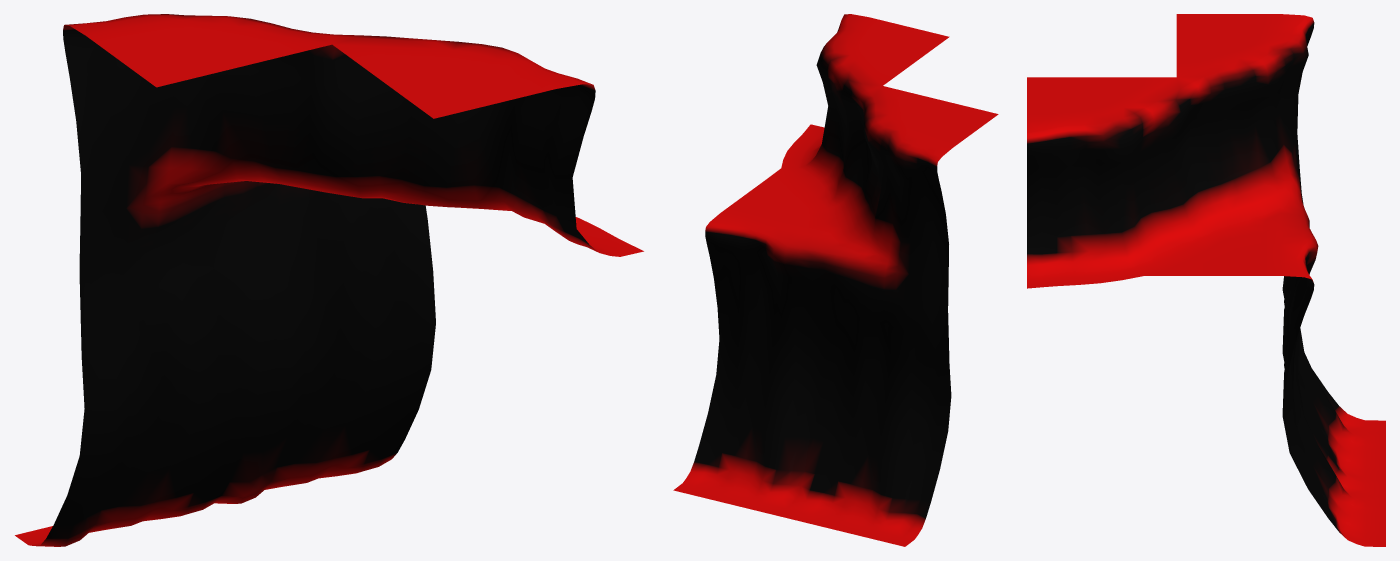
The model's file is Cliff 2x1x3 Foreground.fbx.
3 renders of one model, left to right at view 1: azimuth 30°, elevation 25°; view 2: azimuth 150°, elevation 25°; view 3: azimuth 270°, elevation 25°, orthographic. The views are drawn at different scales.
Visible parts, largest first — view 1: Cliff 2x1x3 Foreground; view 2: Cliff 2x1x3 Foreground; view 3: Cliff 2x1x3 Foreground.
Part boxes in pixels (x1,y1,x2,y2): Cliff 2x1x3 Foreground: (15,14,643,546); Cliff 2x1x3 Foreground: (673,14,998,546); Cliff 2x1x3 Foreground: (1027,14,1385,546).
Bounding box in the file's own units: 2.2 × 3 × 2.4.
